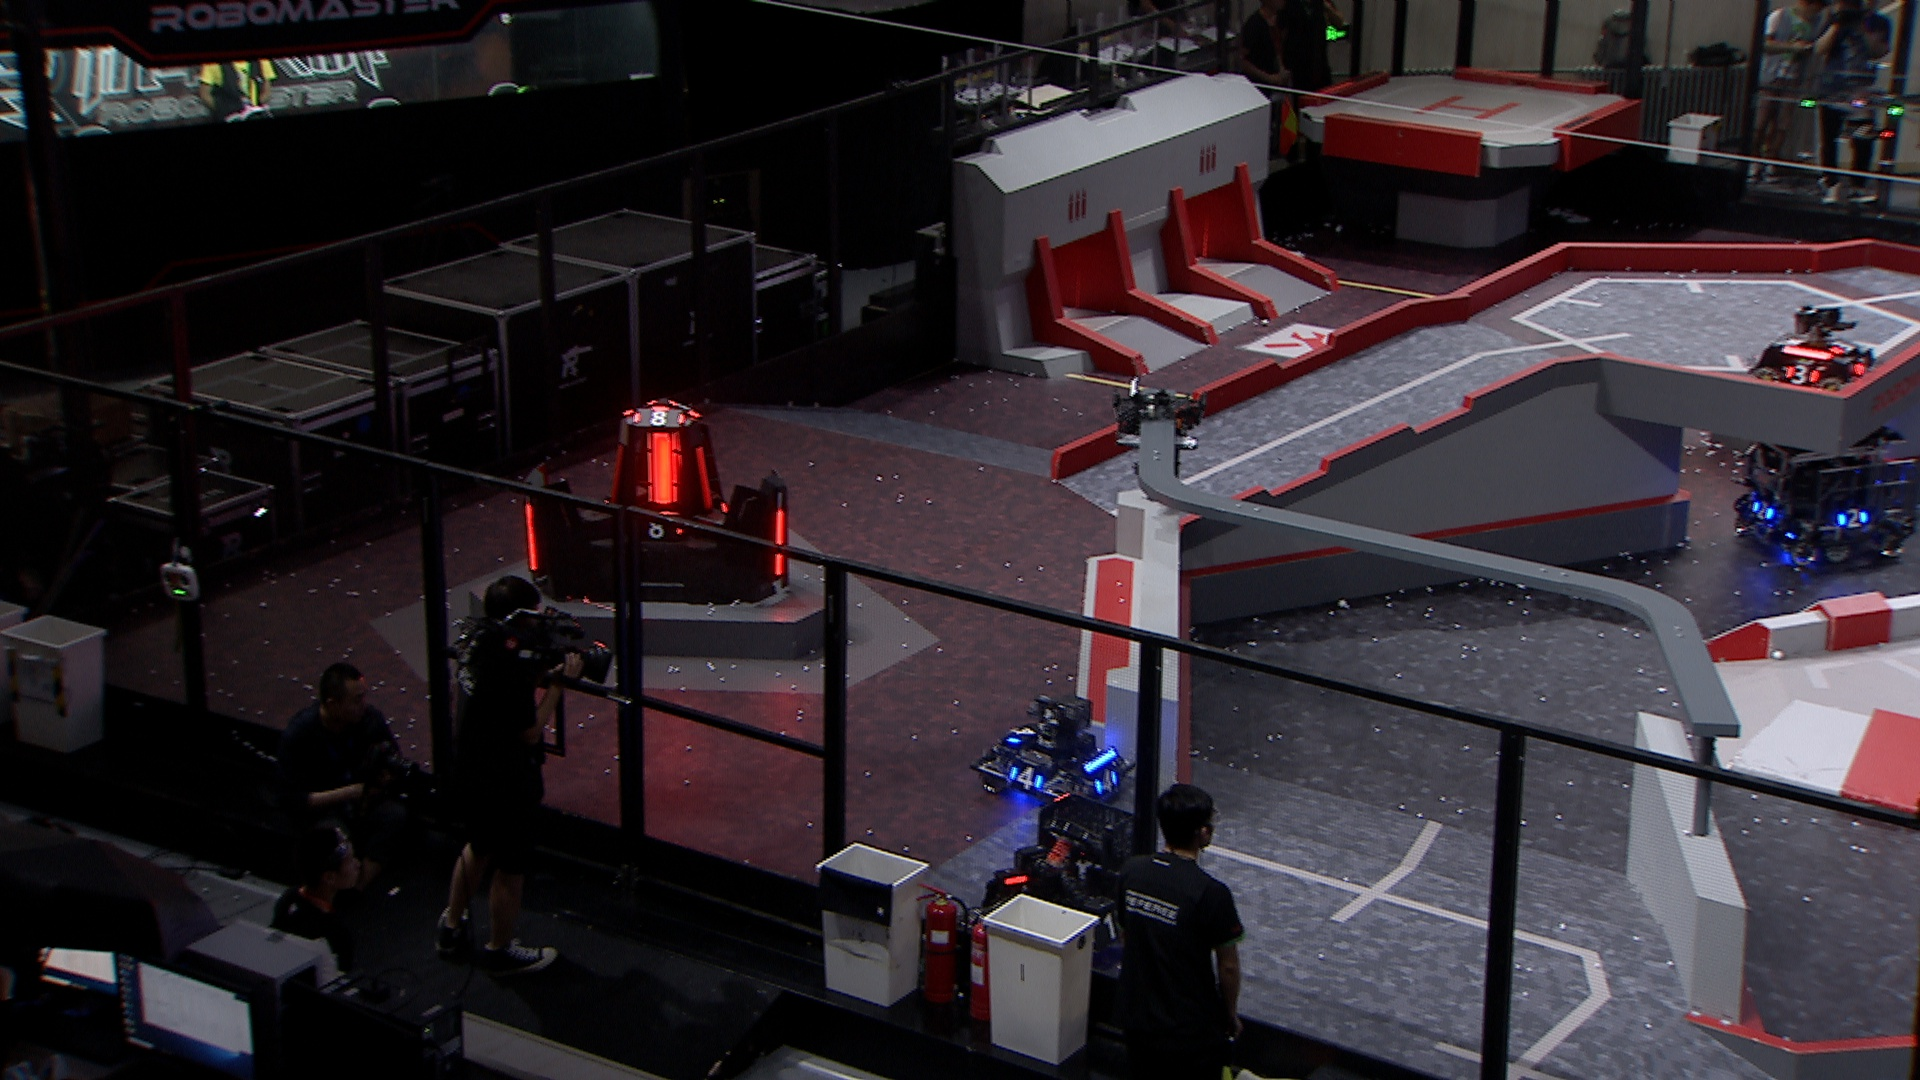armor: (647, 434, 676, 510), (771, 508, 789, 576), (1087, 909, 1125, 939), (522, 500, 538, 572), (694, 447, 712, 508), (640, 517, 684, 537), (632, 407, 680, 425), (1005, 721, 1036, 745), (1007, 766, 1040, 789), (1747, 496, 1775, 522), (611, 440, 622, 501), (1783, 367, 1818, 386), (1096, 767, 1117, 798), (1841, 506, 1871, 526), (1828, 339, 1851, 357), (1854, 353, 1869, 375)
base: (517, 392, 793, 605)
car: (981, 794, 1174, 978), (1735, 419, 1920, 576), (973, 687, 1139, 811), (1743, 301, 1879, 406)
watcher: (1112, 375, 1209, 487)
